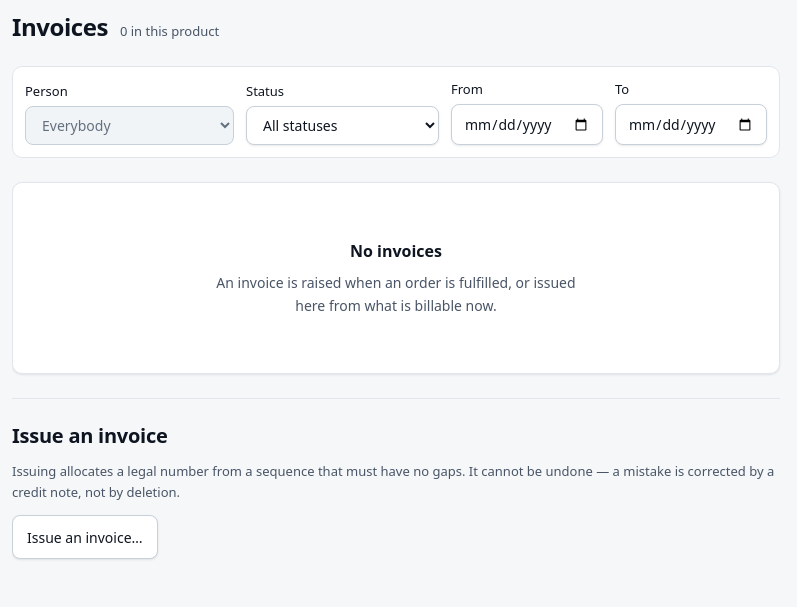
Test: issuing an invoice › shows a pending state and no number while the number is being allocated
The image size is (797, 607).
Click the button "Issue an invoice…": (85, 537) [12,515,158,559]
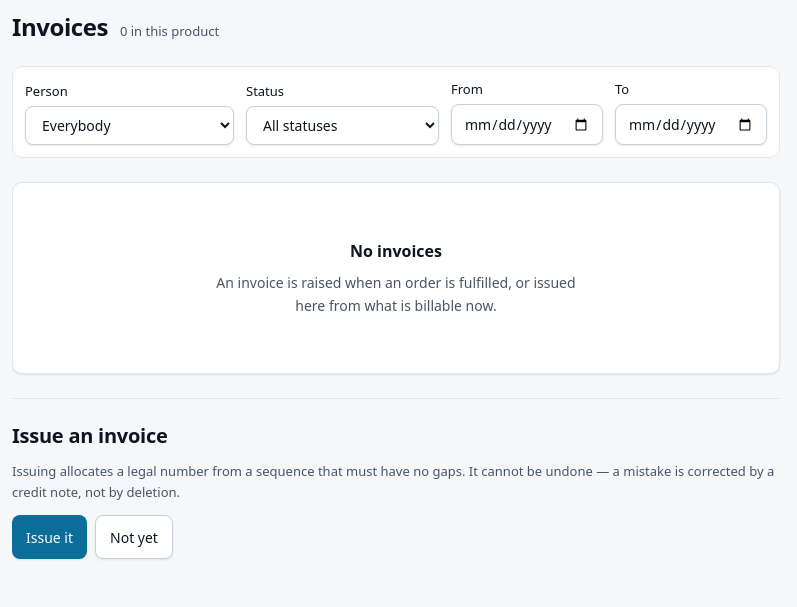
Click the button "Issue it": (50, 537) [12,515,87,559]
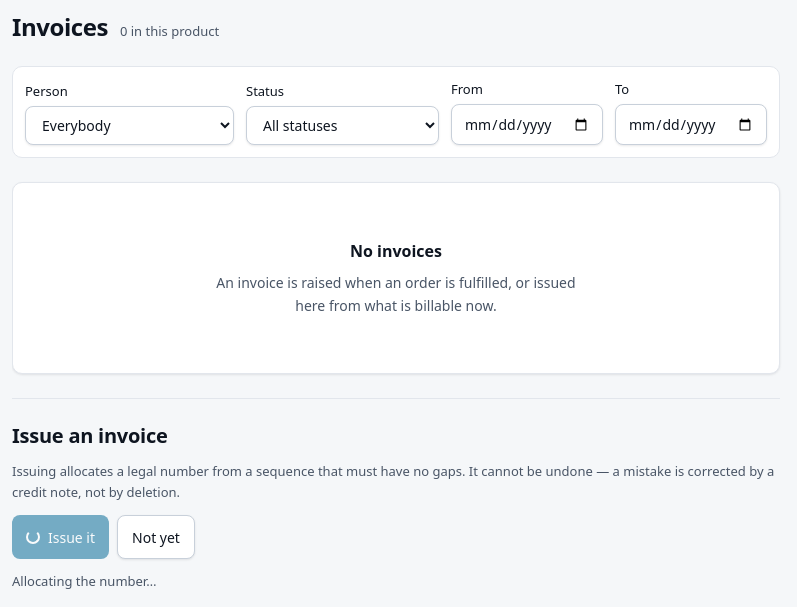
Expected: the text "Allocating the number…" is shown, [12,572,156,590]
